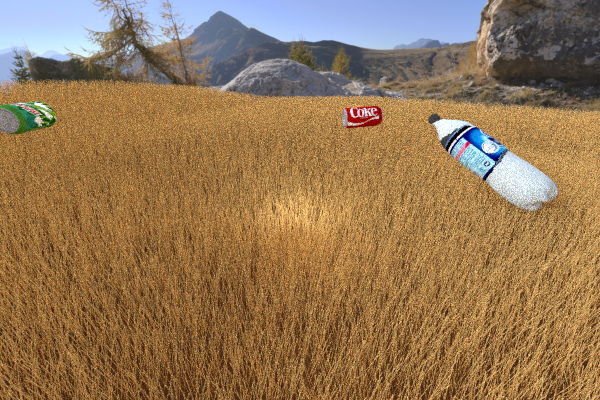Plastic Bottle: (428, 113, 558, 211), (0, 101, 56, 134), (342, 105, 383, 128)
